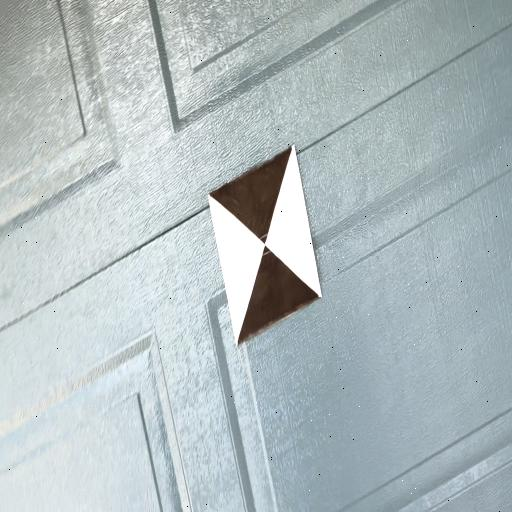target: (209, 145, 323, 343)
